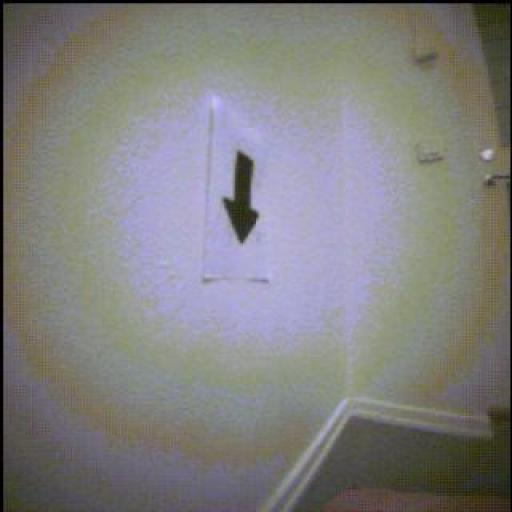arrow: (224, 153, 261, 244)
